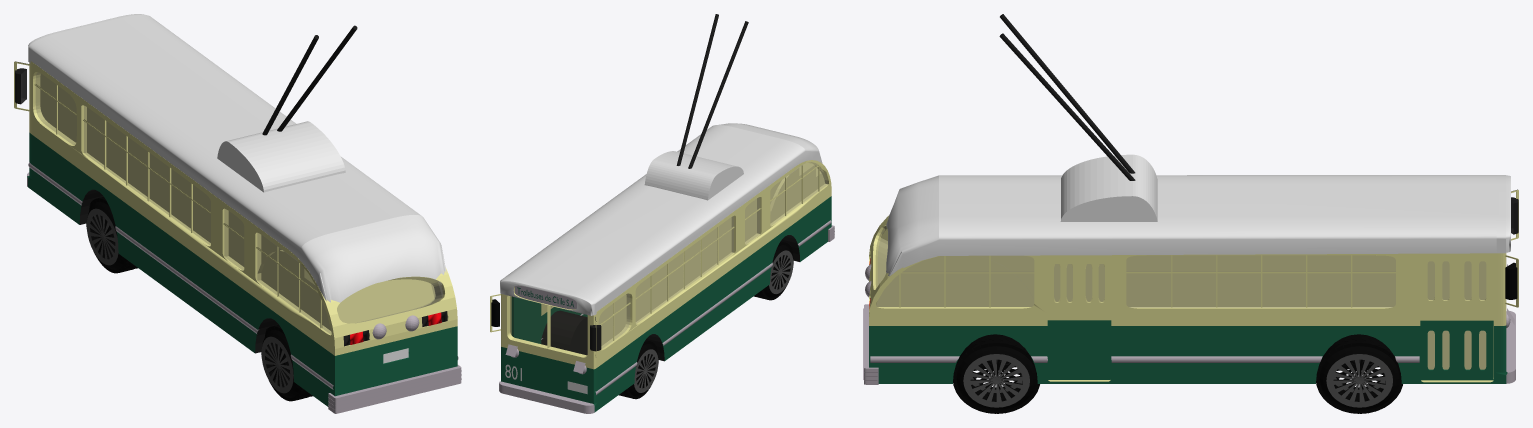
Rendered from Trolebus 3d.glb.
3 renders of one model, left to right at view 1: azimuth 30°, elevation 25°; view 2: azimuth 150°, elevation 25°; view 3: azimuth 270°, elevation 25°, orthographic. The views are drawn at different scales.
Visible parts, largest first — view 1: Cubo.009; view 2: Cubo.009; view 3: Cubo.009.
Part boxes in pixels (bbox=[...]): Cubo.009: bbox=[14, 14, 461, 413]; Cubo.009: bbox=[490, 14, 834, 413]; Cubo.009: bbox=[863, 14, 1518, 413].
Bounding box in the file's own units: 3.46 × 8.22 × 13.38.
